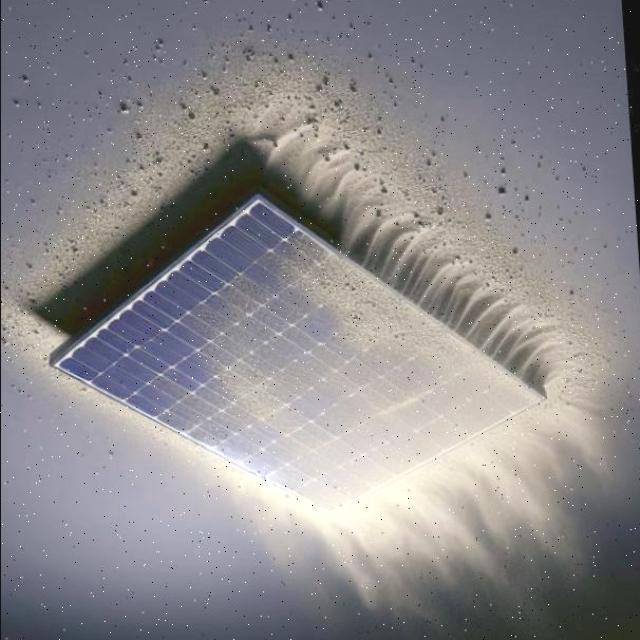Anomaly Solar Panel: (59, 159, 546, 613)
Surface Contaminant: (136, 205, 547, 596)
